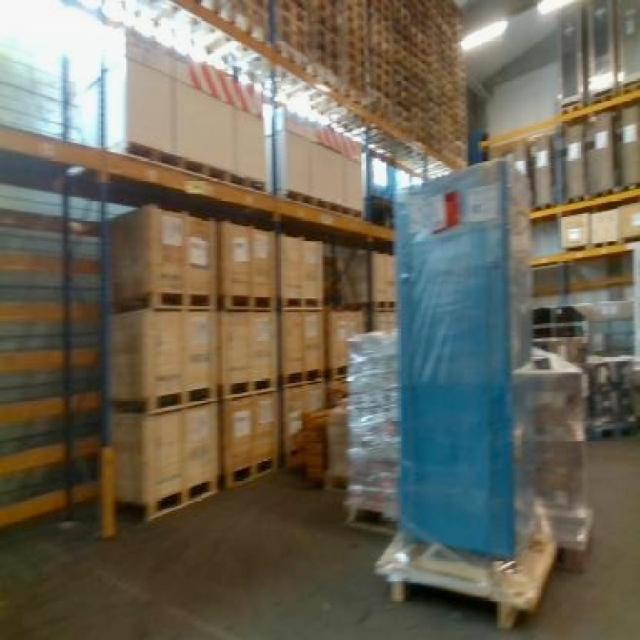pallets: (374, 157, 589, 625)
